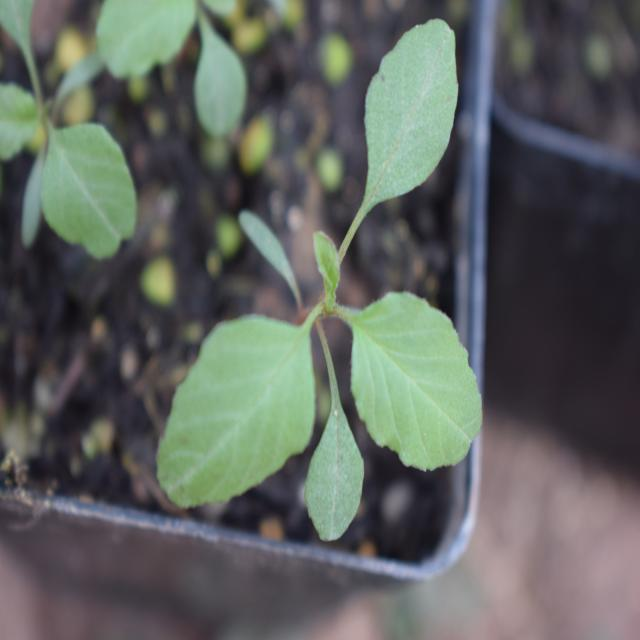pigweed: (163, 35, 507, 548)
